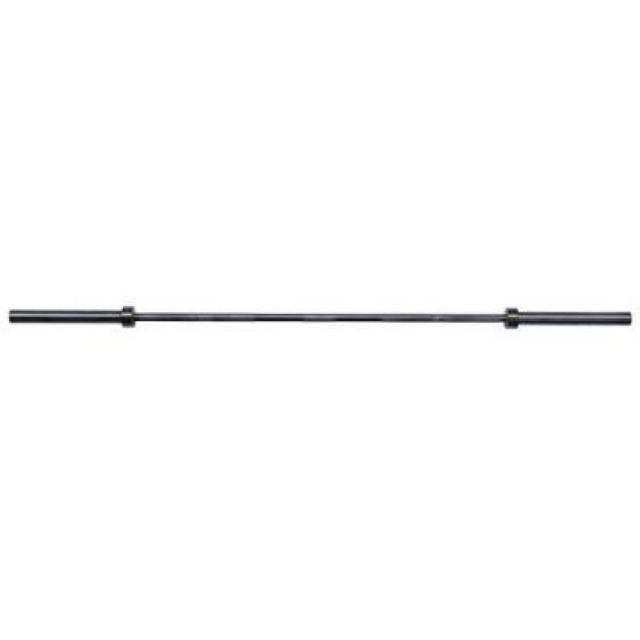Barbell: (606, 296, 640, 342)
